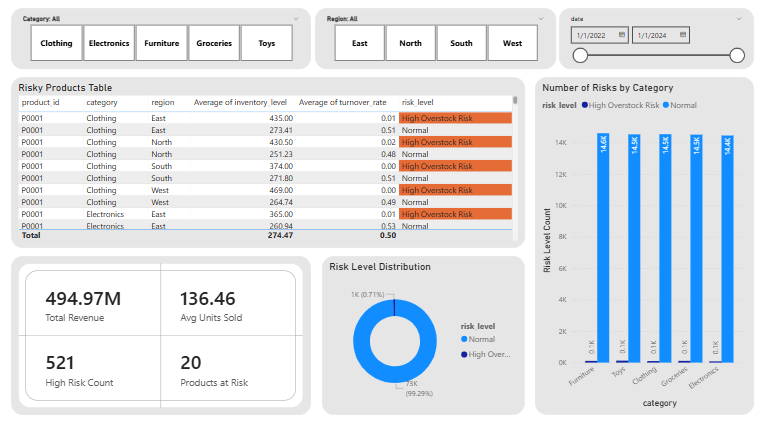

Layout of this report page (visuals, bound fields, positions):
{"tool":"powerbi","page":{"name":"Inventory Risks","canvas":[1280,720],"ordinal":2},"visuals":[{"type":"slicer","fields":{"Values":["retail_db sales_transactions.category"]},"box":[21.7,15,500,101.7],"z":0},{"type":"slicer","fields":{"Values":["retail_db sales_transactions.region"]},"box":[528.3,15,401.7,101.7],"z":1000},{"type":"slicer","fields":{"Values":["retail_db sales_transactions.date"]},"box":[935,15,325,101.7],"z":2000},{"type":"donutChart","title":"Risk Level Distribution","fields":{"Category":["retail_db inventory_risk_metrics.risk_level"],"Y":["retail_db inventory_risk_metrics.Risk Level Count"]},"box":[540,428.3,338.3,265],"z":3000},{"type":"tableEx","title":"Risky Products Table","fields":{"Values":["retail_db inventory_risk_metrics.product_id","retail_db inventory_risk_metrics.category","retail_db inventory_risk_metrics.region","Avg(retail_db inventory_risk_metrics.inventory_level)","Avg(retail_db inventory_risk_metrics.turnover_rate)","retail_db inventory_risk_metrics.risk_level"]},"box":[21.7,130,856.7,285],"z":4000},{"type":"clusteredColumnChart","title":"Number of Risks by Category","fields":{"Category":["retail_db inventory_risk_metrics.category"],"Series":["retail_db inventory_risk_metrics.risk_level"],"Y":["retail_db inventory_risk_metrics.Risk Level Count"]},"box":[895,130,365,563.3],"z":4001},{"type":"cardVisual","fields":{"Data":["retail_db sales_transactions.Total Revenue","retail_db sales_transactions.Avg Units Sold","retail_db inventory_risk_metrics.High Risk Count","retail_db inventory_risk_metrics.Products at Risk"]},"box":[21.7,428.3,500,265],"z":4002}]}

Visuals, with their boxes in screenshot pixels (x1, y1, x2, y2), scaled from the page's 1280x720 canvas onto the 763x426 screenshot:
slicer - retail_db sales_transactions.category: Rect(13, 9, 311, 69)
slicer - retail_db sales_transactions.region: Rect(315, 9, 554, 69)
slicer - retail_db sales_transactions.date: Rect(557, 9, 751, 69)
"Risk Level Distribution" donutChart: Rect(322, 253, 524, 410)
"Risky Products Table" tableEx: Rect(13, 77, 524, 246)
"Number of Risks by Category" clusteredColumnChart: Rect(534, 77, 751, 410)
cardVisual - retail_db sales_transactions.Total Revenue x retail_db sales_transactions.Avg Units Sold: Rect(13, 253, 311, 410)
